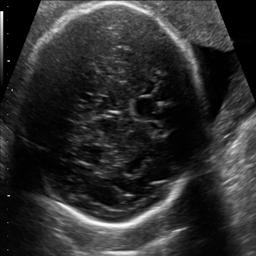normal: (16, 0, 210, 231)
